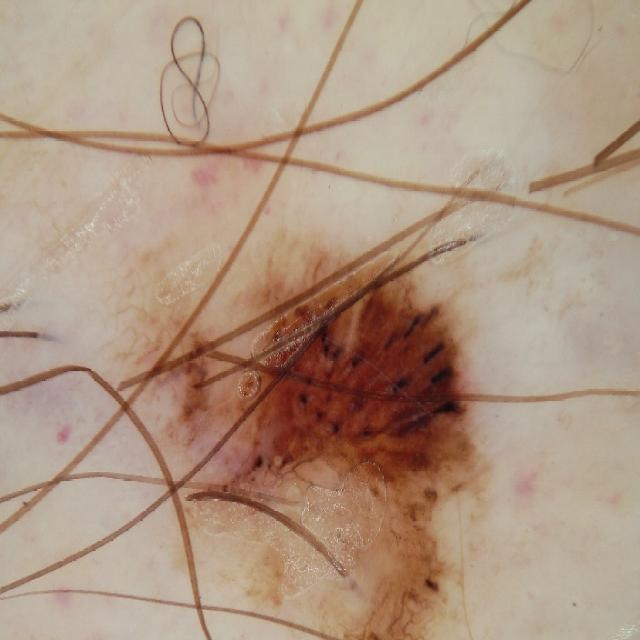Melanoma: (191, 272, 569, 640)
